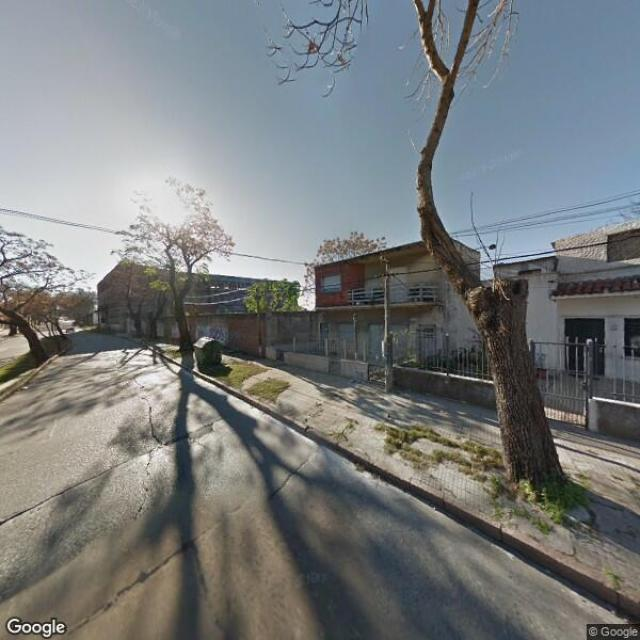garbage container: (186, 331, 233, 374)
